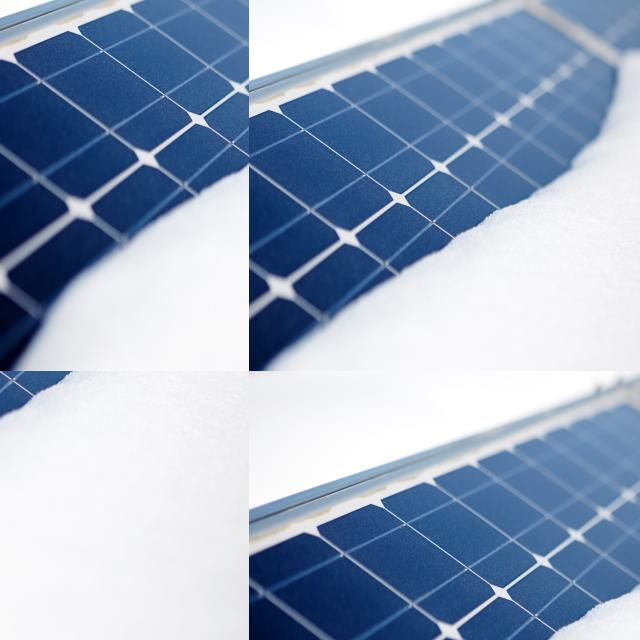crack: (0, 371, 164, 640), (102, 371, 249, 640), (0, 371, 112, 640), (0, 393, 97, 640), (1, 0, 160, 141), (0, 0, 107, 141)
panel: (495, 538, 640, 640), (323, 392, 437, 508), (440, 371, 640, 428), (249, 438, 313, 533), (585, 562, 640, 640)
shadow: (249, 0, 279, 48)
